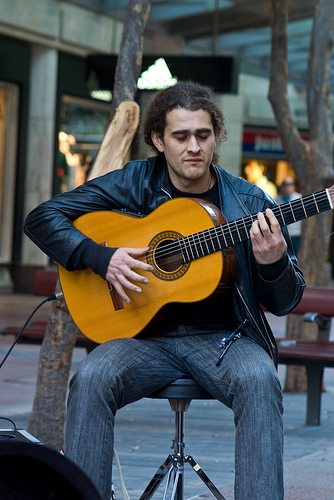guitar: (58, 186, 334, 346)
